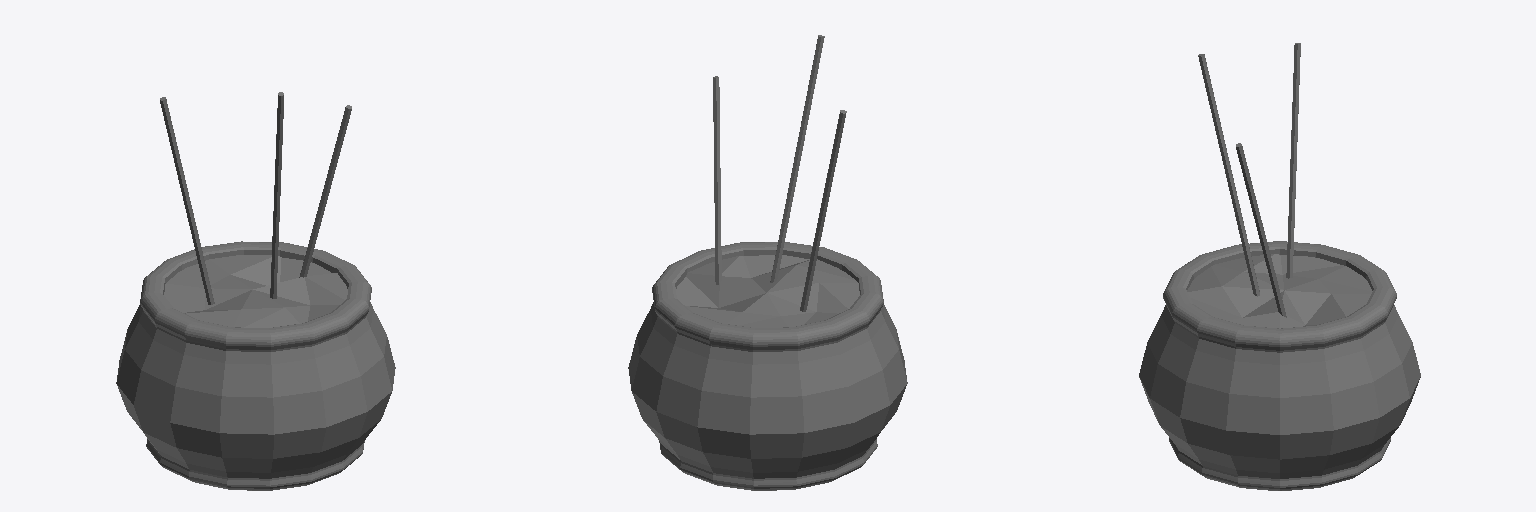
File: dupa.obj
3 renders of one model, left to right at view 1: azimuth 30°, elevation 25°; view 2: azimuth 150°, elevation 25°; view 3: azimuth 270°, elevation 25°, orthographic.
Parts seen in each view (by area): view 1: polySurface1 pCylinder19, pCylinder19 polySurface2, pCylinder22, pCylinder21, pCylinder20; view 2: polySurface1 pCylinder19, pCylinder19 polySurface2, pCylinder21, pCylinder22, pCylinder20; view 3: polySurface1 pCylinder19, pCylinder19 polySurface2, pCylinder21, pCylinder22, pCylinder20.
Boxes of the visible parts, box(x1,y1,x2,y2) form: polySurface1 pCylinder19: box(116, 241, 395, 490); pCylinder19 polySurface2: box(164, 255, 347, 327); pCylinder22: box(160, 97, 214, 304); pCylinder21: box(270, 92, 283, 298); pCylinder20: box(299, 105, 351, 277); polySurface1 pCylinder19: box(628, 242, 907, 490); pCylinder19 polySurface2: box(676, 255, 859, 327); pCylinder21: box(770, 35, 824, 282); pCylinder22: box(800, 110, 846, 311); pCylinder20: box(713, 76, 721, 284); polySurface1 pCylinder19: box(1139, 241, 1420, 490); pCylinder19 polySurface2: box(1187, 254, 1372, 328); pCylinder21: box(1198, 54, 1259, 296); pCylinder22: box(1286, 43, 1300, 278); pCylinder20: box(1236, 143, 1286, 317).
Size of the model in its own units: 0.5558 by 0.8467 by 0.5558.